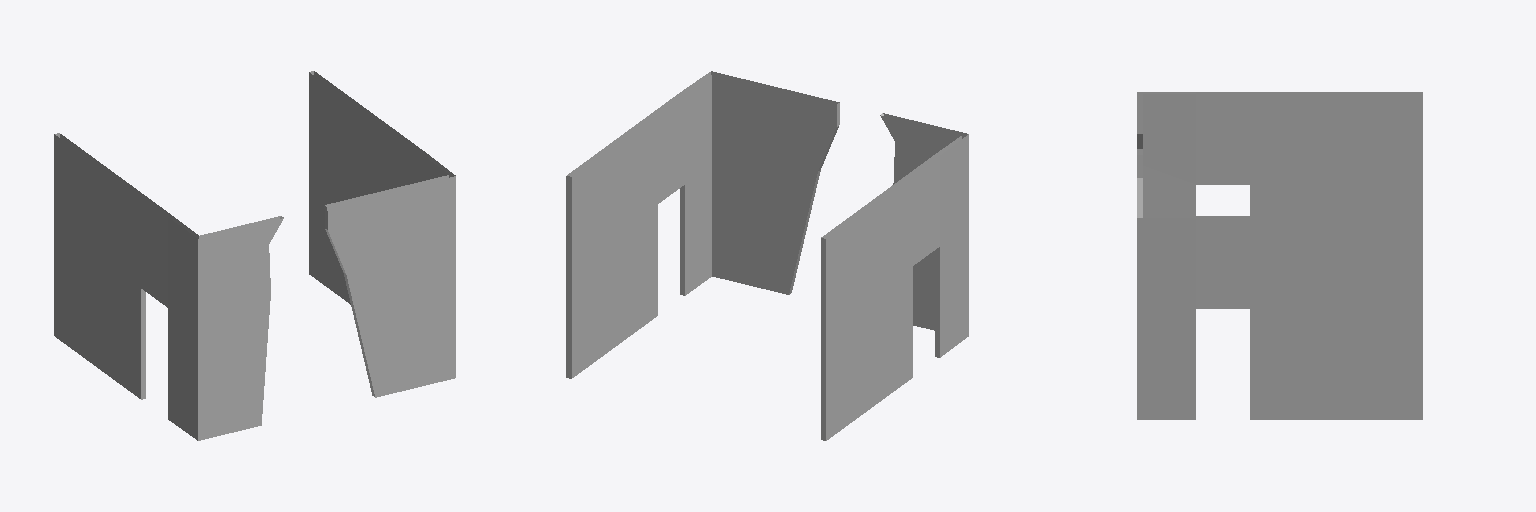
The model's file is TempleRoom1.obj.
3 views of the same model, side by side, from view 1: azimuth 30°, elevation 25°; view 2: azimuth 150°, elevation 25°; view 3: azimuth 270°, elevation 25° (orthographic).
Parts seen in each view (by area): view 1: TempleRoom1; view 2: TempleRoom1; view 3: TempleRoom1.
Boxes of the visible parts, x1=… form: TempleRoom1: x1=54, y1=71, x2=455, y2=440; TempleRoom1: x1=566, y1=71, x2=968, y2=440; TempleRoom1: x1=1137, y1=92, x2=1422, y2=419.
Bounding box in the file's own units: 1482 × 1102 × 1416.